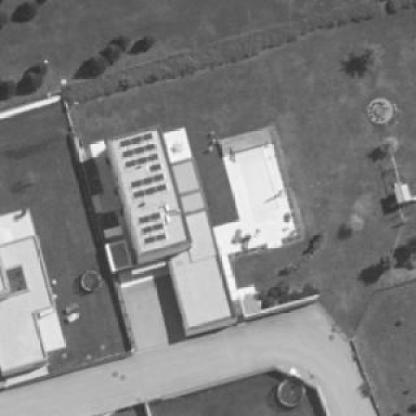solar-pv-panel: (130, 172, 164, 189), (133, 183, 166, 200), (122, 141, 155, 158), (119, 132, 153, 148), (125, 153, 158, 169), (141, 222, 164, 236), (139, 211, 161, 225), (144, 232, 166, 245), (148, 164, 161, 173)
